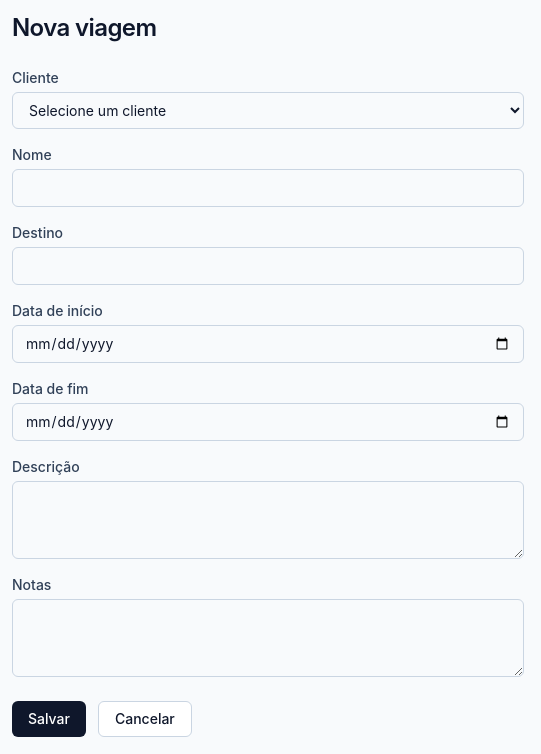
Test: TripFormPage › shows submitting state and disables the submit button while saving
Select "Maria Silva" in the dropdown labelled "Cliente": (268, 110) left=12, top=92, right=524, bottom=129
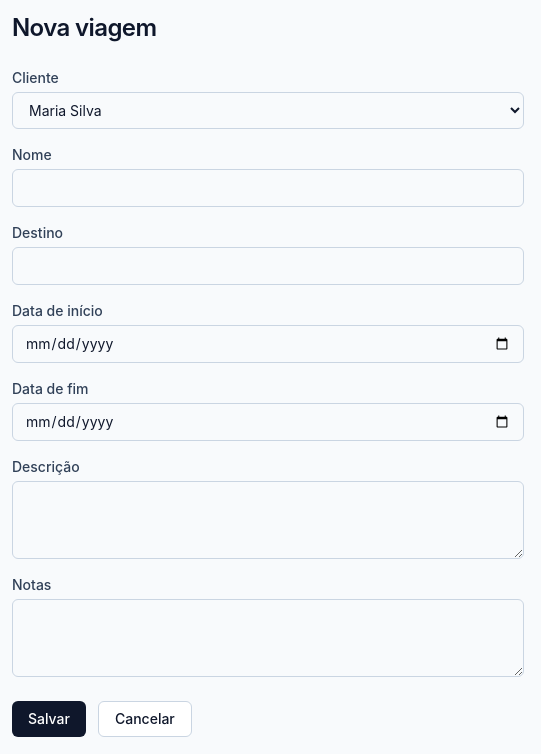
In the field labelled "Nome": (268, 188) left=12, top=169, right=524, bottom=207, type "Lua de mel"
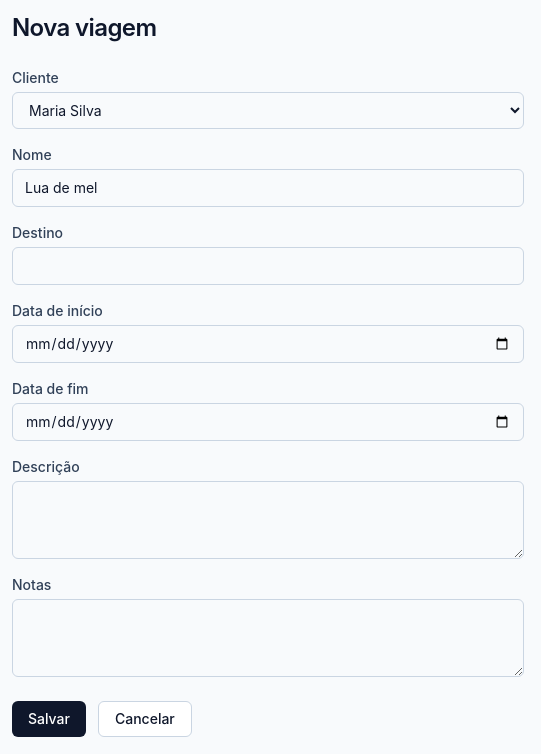
In the field labelled "Destino": (268, 266) left=12, top=247, right=524, bottom=285, type "Paris"
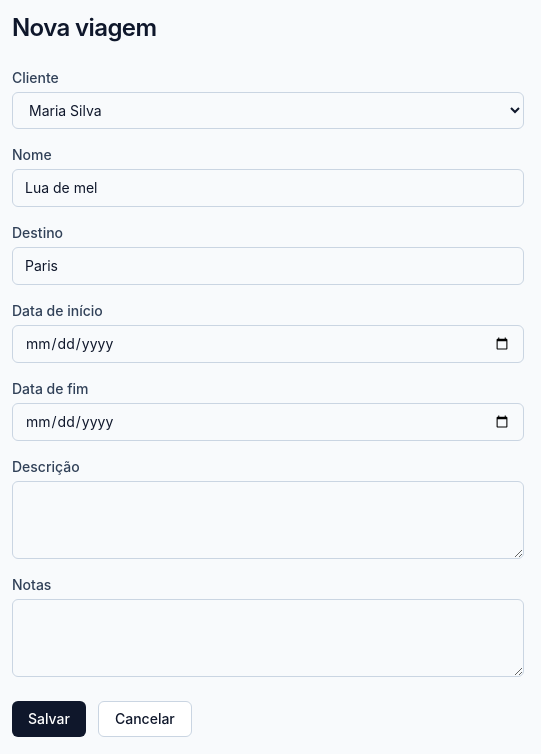
In the date field labelled "Data de início": (268, 344) left=12, top=325, right=524, bottom=363, type "2026-06-01"
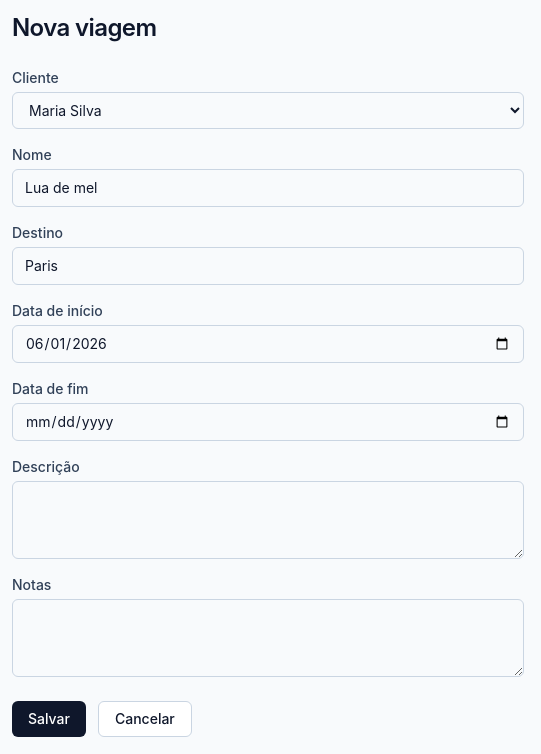
In the date field labelled "Data de fim": (268, 422) left=12, top=403, right=524, bottom=441, type "2026-06-10"
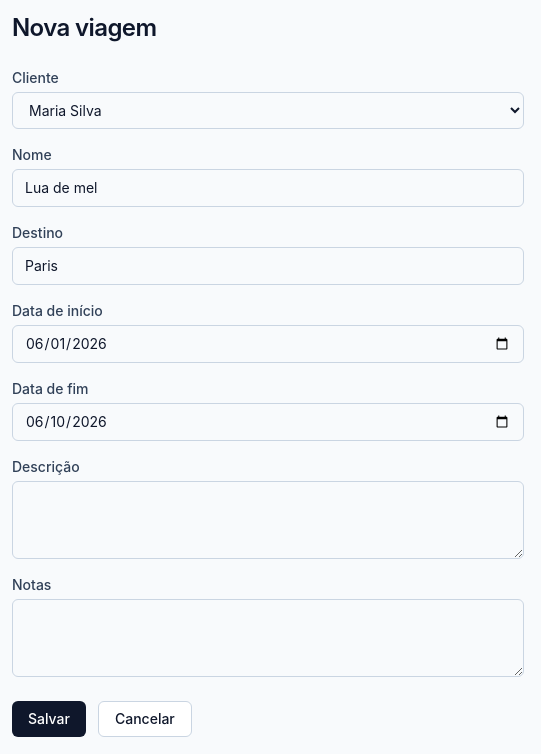
Click the button "Salvar": (49, 719) left=12, top=701, right=86, bottom=737
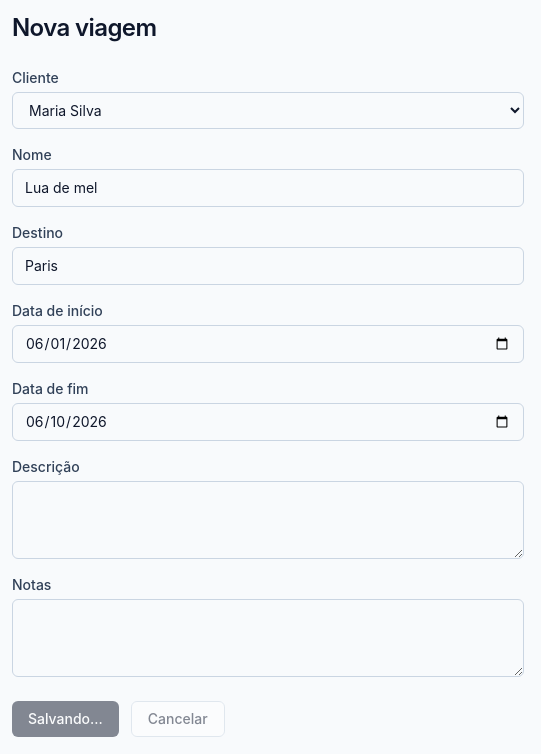
Now the button "Salvando..." is disabled, box left=12, top=701, right=119, bottom=737
